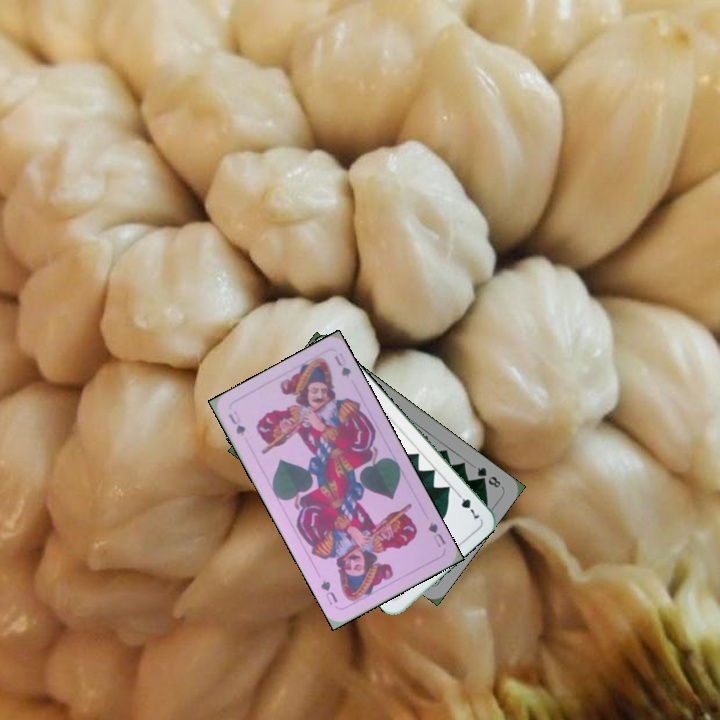G7: (452, 488, 482, 523)
G8: (473, 463, 503, 491)
GU: (424, 518, 449, 550), (224, 407, 248, 439)
